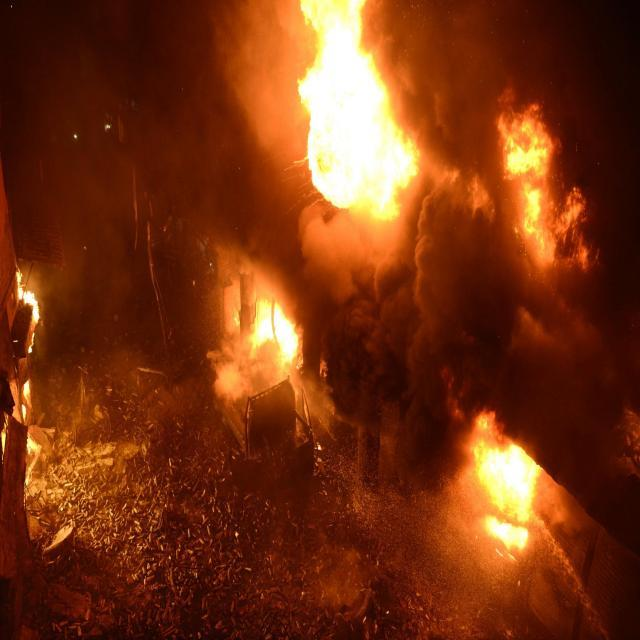Fire: (270, 1, 458, 274), (447, 423, 573, 555), (213, 262, 318, 389)
